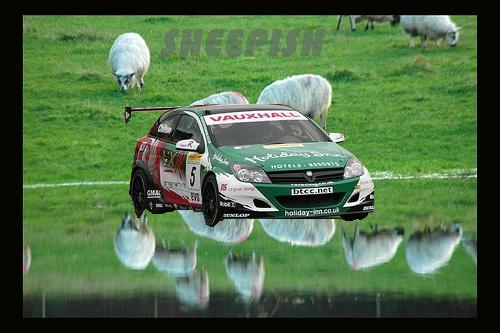tampered: (125, 105, 374, 227)
